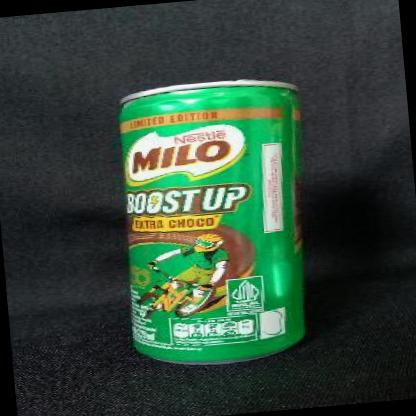alumunium_can: (112, 74, 323, 370)
